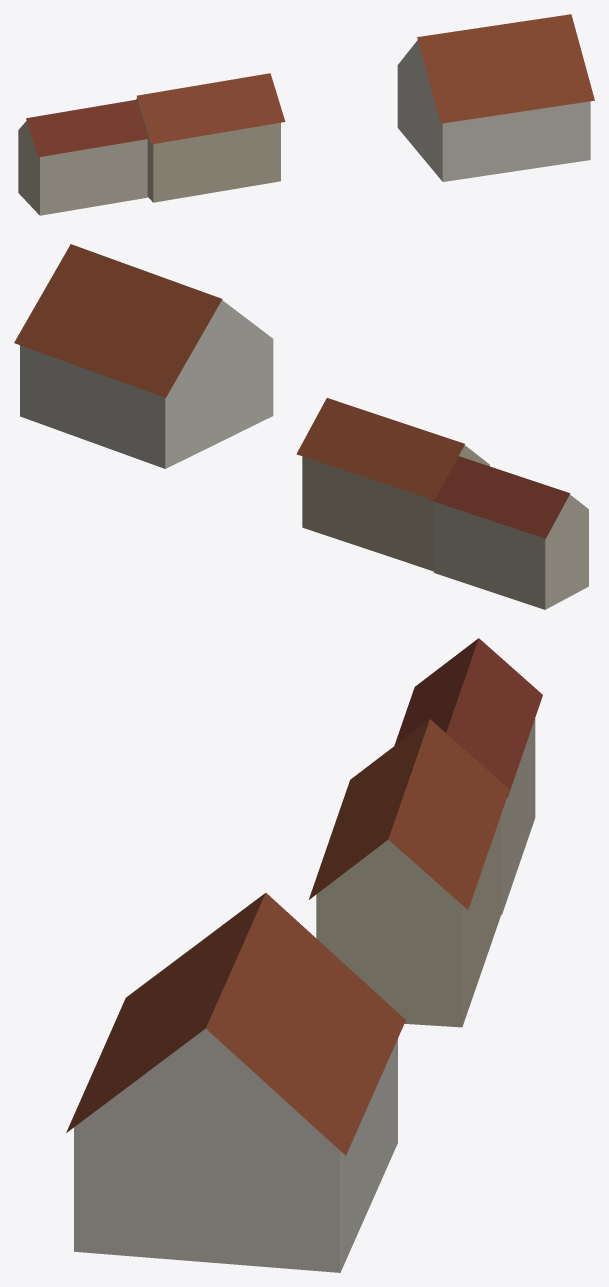
The picture shows the model from 3 angles, top to bottom: view 1: azimuth 30°, elevation 25°; view 2: azimuth 150°, elevation 25°; view 3: azimuth 270°, elevation 25°; orthographic projection. The views are drawn at different scales.
Visible parts, largest first — view 1: buildings; view 2: buildings; view 3: buildings.
Part boxes in pixels (x1,y1,x2,y2): buildings: (18, 14, 594, 215); buildings: (14, 244, 588, 609); buildings: (66, 638, 542, 1272).
Size of the model in its own units: 49.95 by 12.04 by 20.95.
